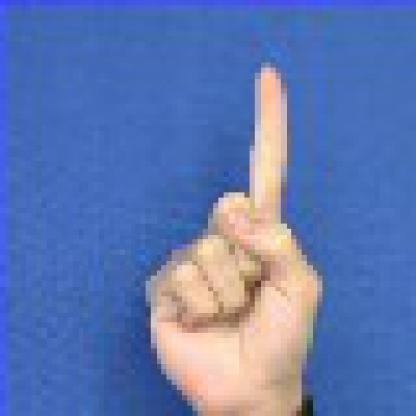one: (135, 52, 333, 411)
